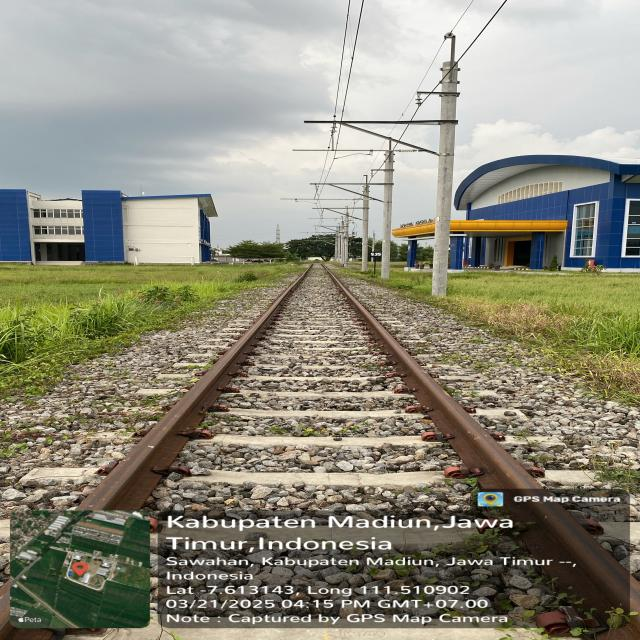rail-detection: (322, 263, 640, 610), (80, 262, 313, 510)
